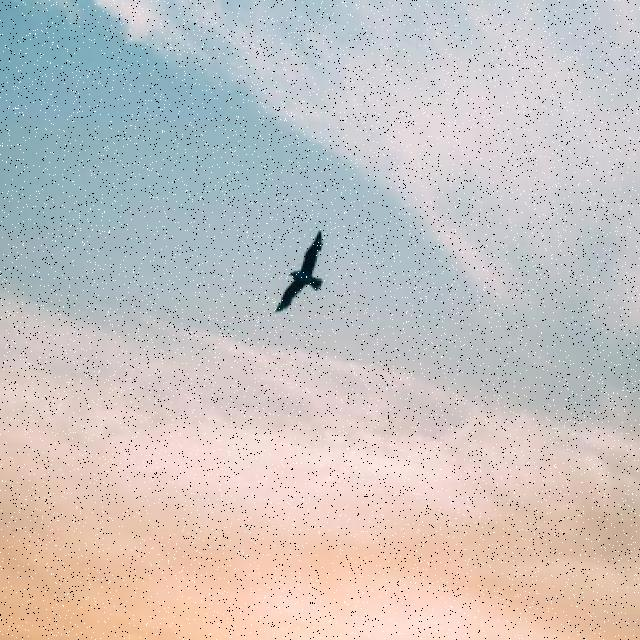bird: (274, 231, 324, 314)
